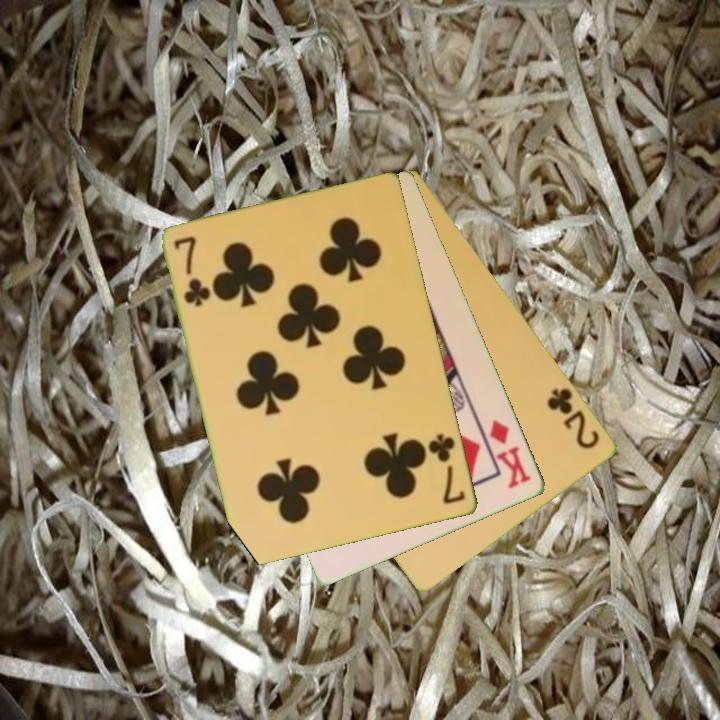2c: (544, 384, 603, 453)
7c: (425, 430, 469, 508), (171, 232, 213, 310)
Kd: (486, 415, 535, 492)
